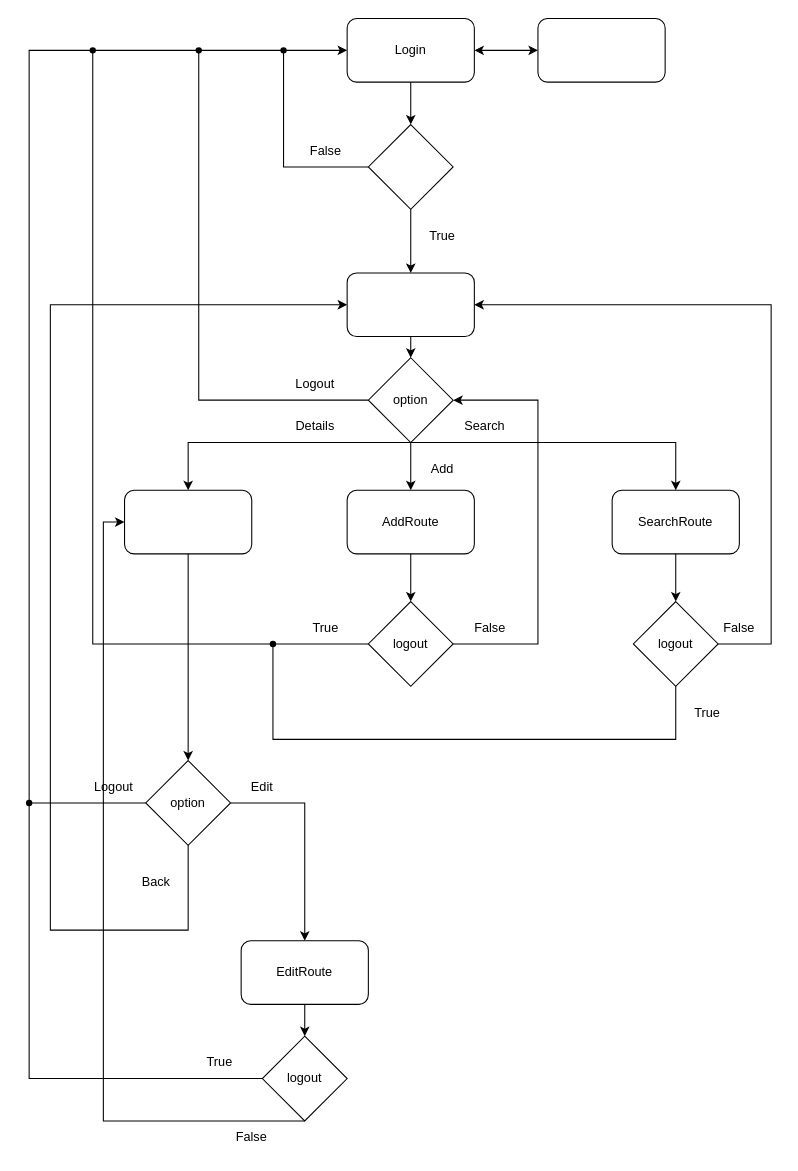
This 798x1171 diagram has some shape labels left out. Here are the shapes that lost their labels. From the top down, the centre of each, then its label:
the point at 601,49: Register
the point at 410,166: status.ok
the point at 410,304: UserListRoutes
the point at 187,521: RouteDetails
